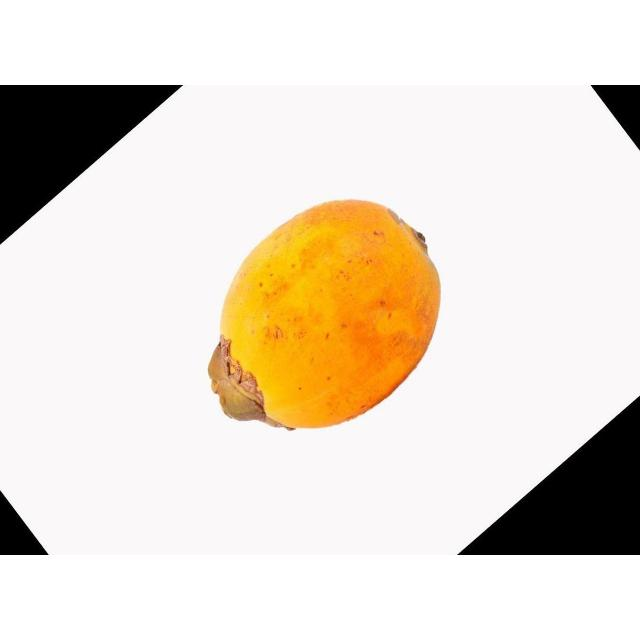good: (206, 201, 443, 432)
